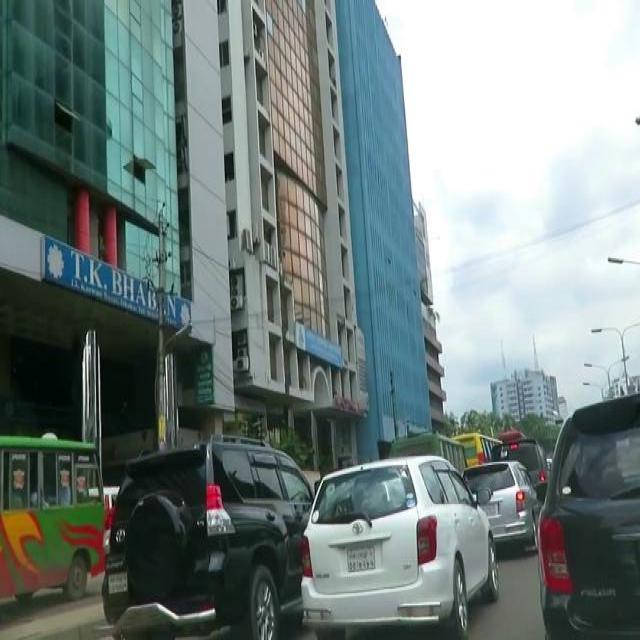15: (98, 428, 312, 636)
19: (489, 434, 549, 503)
5: (299, 450, 499, 632), (535, 387, 637, 629), (460, 455, 542, 555)
Truck: (0, 424, 105, 613), (389, 429, 467, 468), (452, 429, 498, 463)
